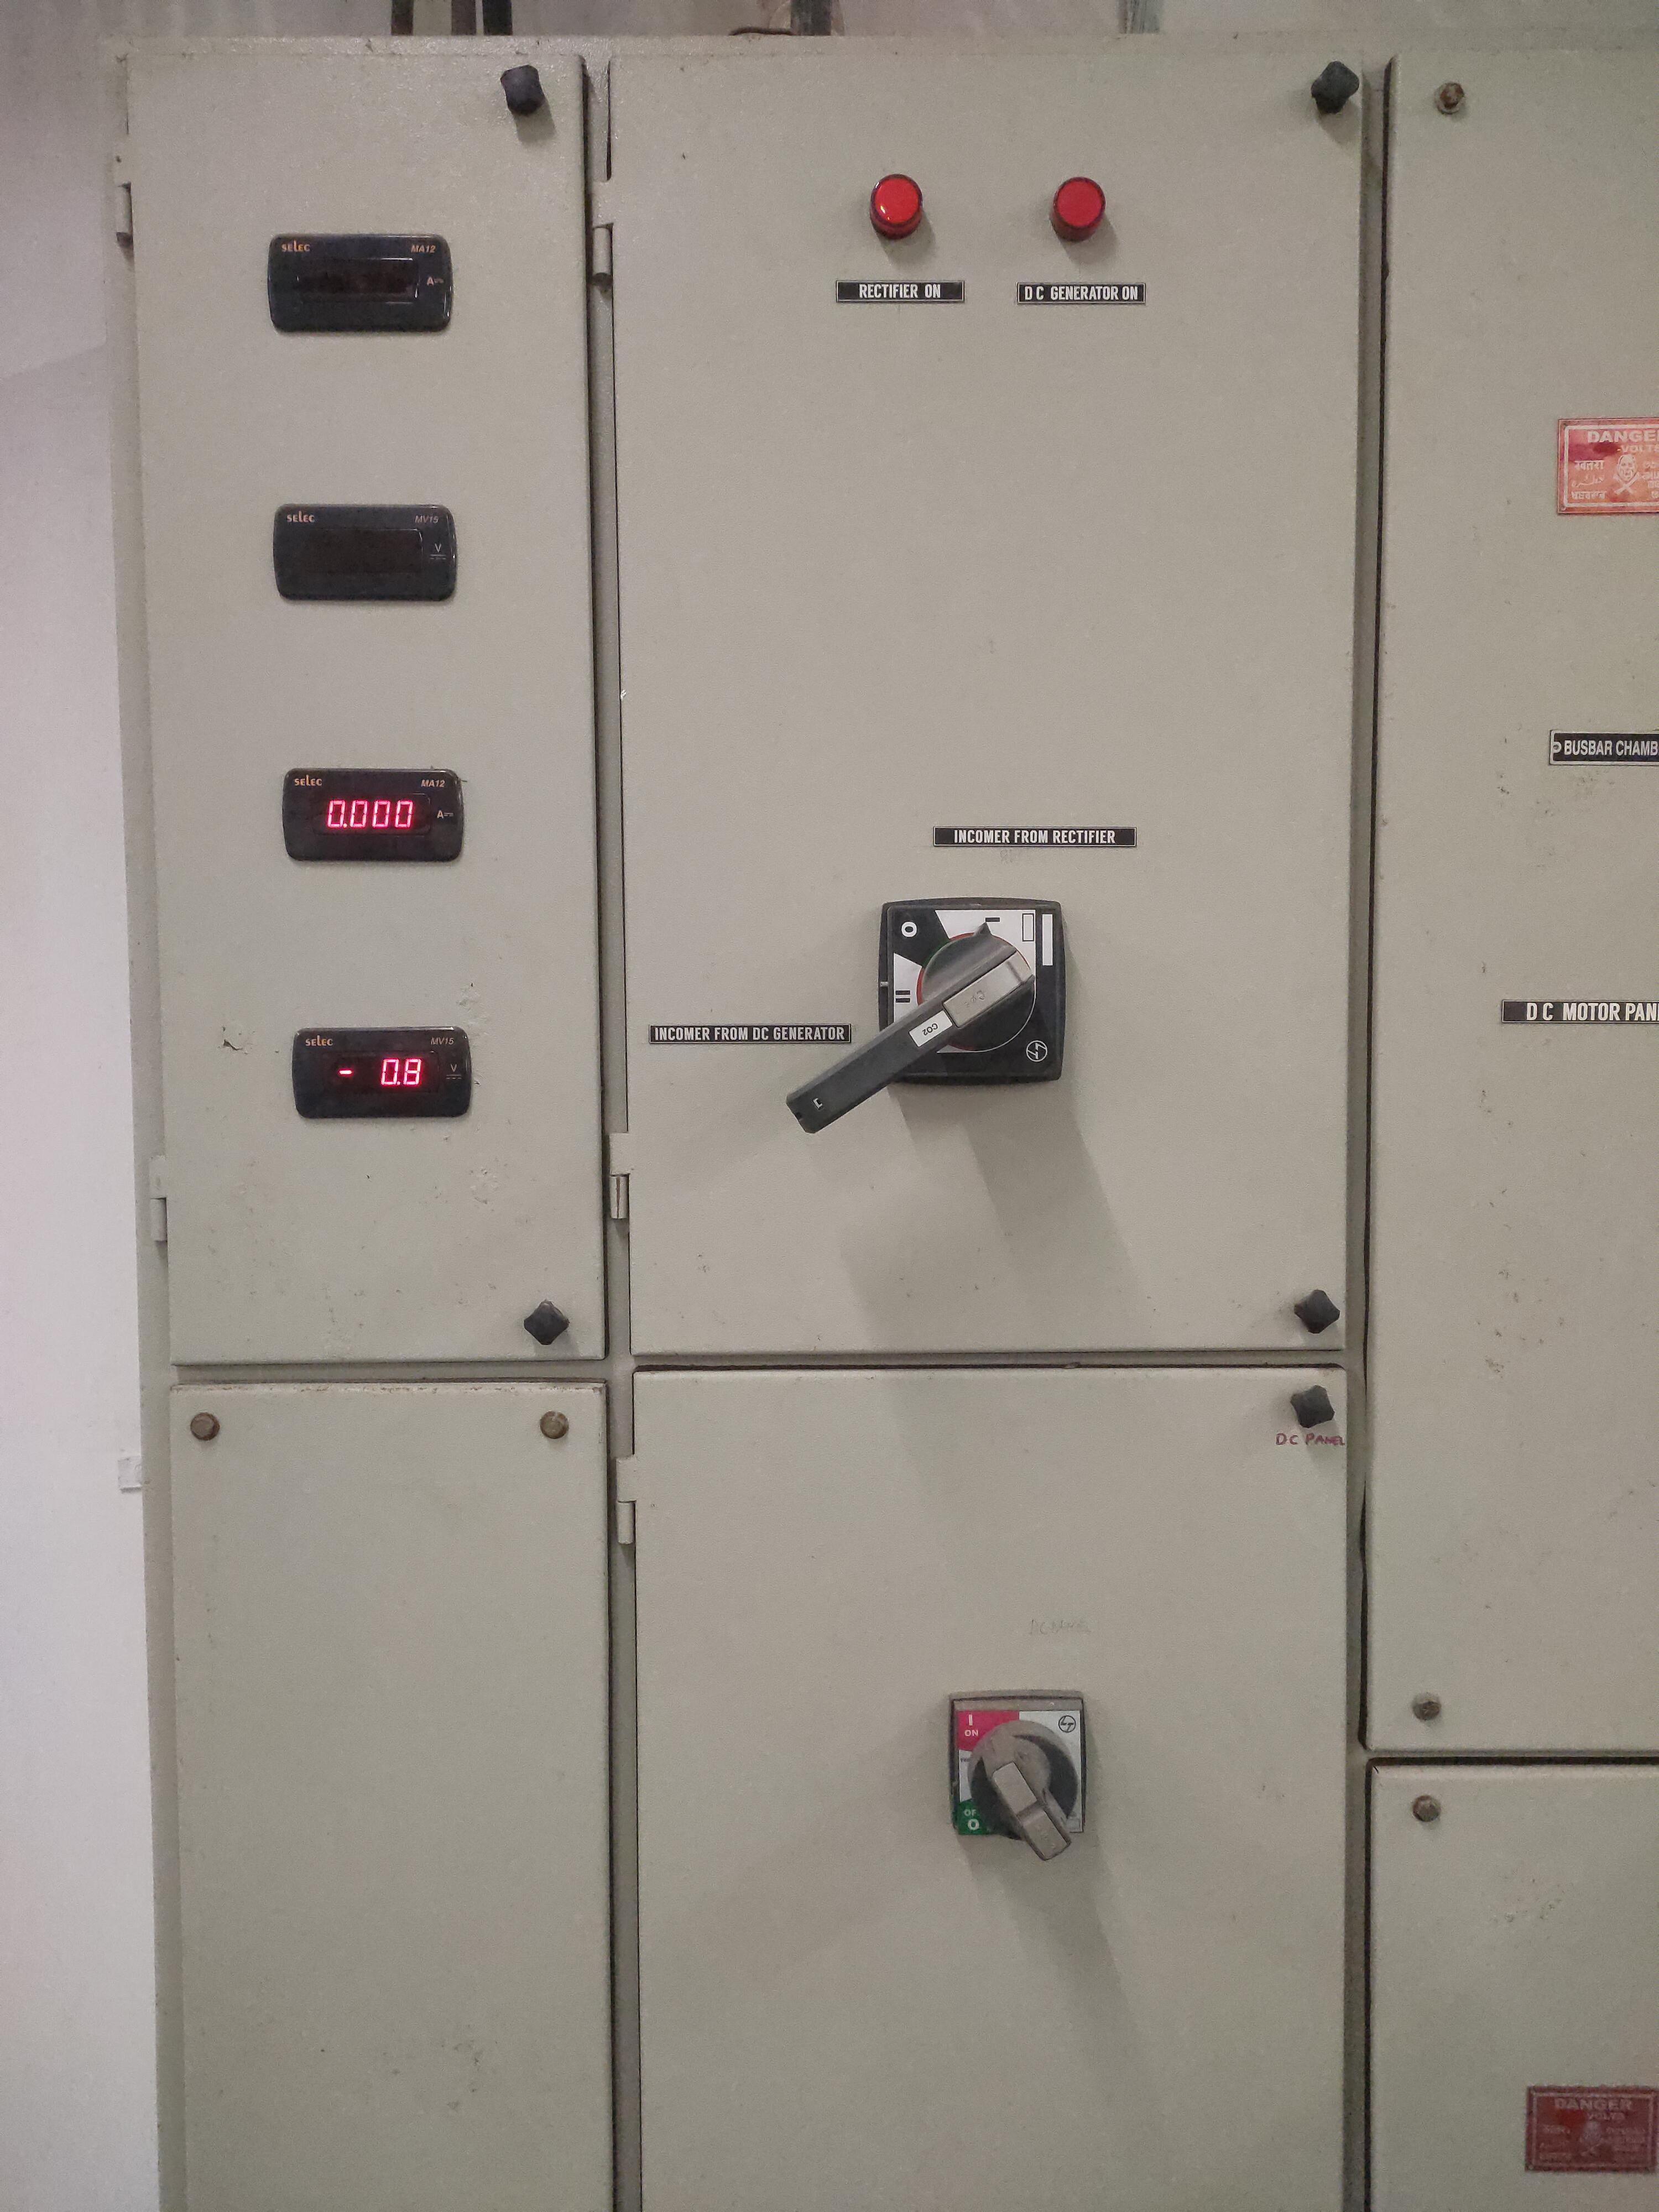Knob 1: (763, 859, 1129, 1193)
Knob 2: (899, 1656, 1143, 1878)
Light Indications: (807, 136, 1190, 340)
